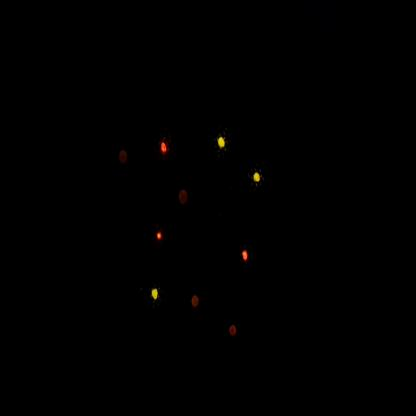PE: (246, 158, 268, 195), (147, 280, 166, 319), (214, 125, 231, 161)
PS: (114, 142, 135, 176), (187, 285, 205, 323), (225, 313, 243, 350), (175, 181, 192, 212)
PVC: (155, 131, 175, 165), (238, 240, 254, 271), (152, 221, 169, 250)
